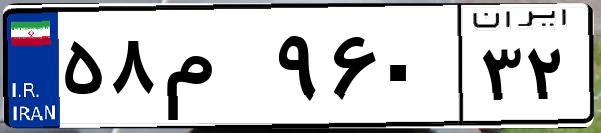0: (385, 28, 445, 110)
2: (525, 38, 570, 115)
3: (475, 38, 525, 113)
5: (57, 26, 110, 100)
6: (330, 28, 385, 110)
8: (110, 28, 158, 98)
9: (270, 28, 330, 110)
م: (158, 20, 270, 120)
